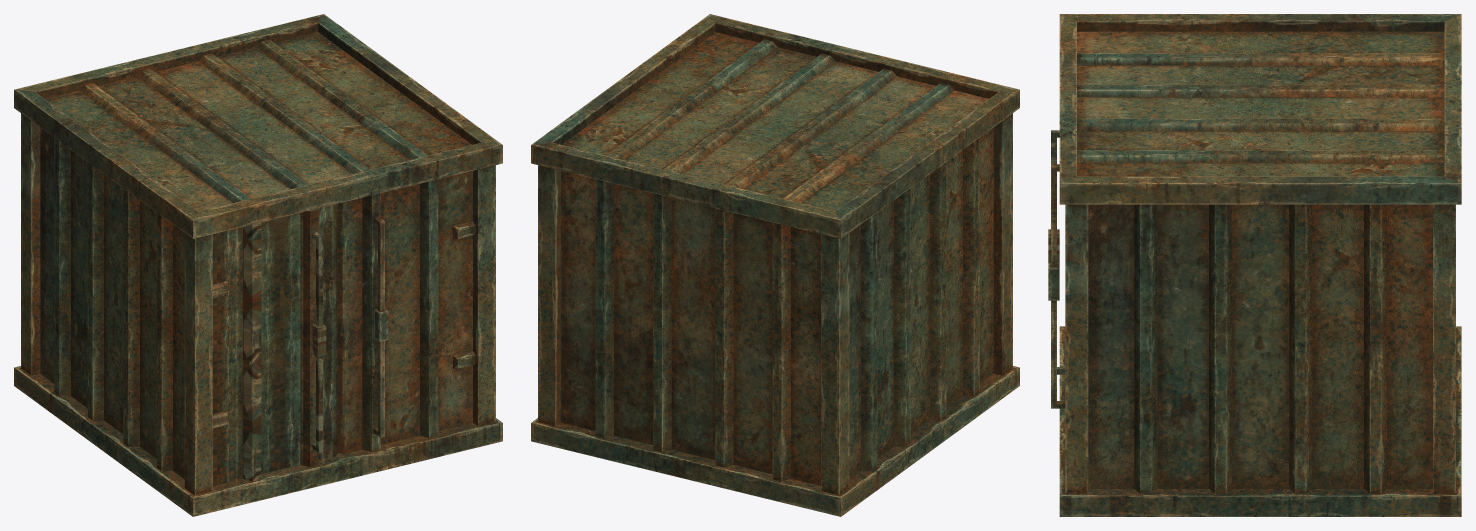
The picture shows the model from 3 angles, left to right: view 1: azimuth 30°, elevation 25°; view 2: azimuth 150°, elevation 25°; view 3: azimuth 270°, elevation 25°; orthographic projection. The views are drawn at different scales.
Visible parts, largest first — view 1: container00_container00Shape.001; view 2: container00_container00Shape.001; view 3: container00_container00Shape.001.
Part boxes in pixels (x1=…): container00_container00Shape.001: x1=14, y1=14, x2=502, y2=516; container00_container00Shape.001: x1=531, y1=14, x2=1019, y2=516; container00_container00Shape.001: x1=1048, y1=14, x2=1461, y2=516.
Size of the model in its own units: 2.19 by 2 by 2.25.
1 material, 1 textured.
